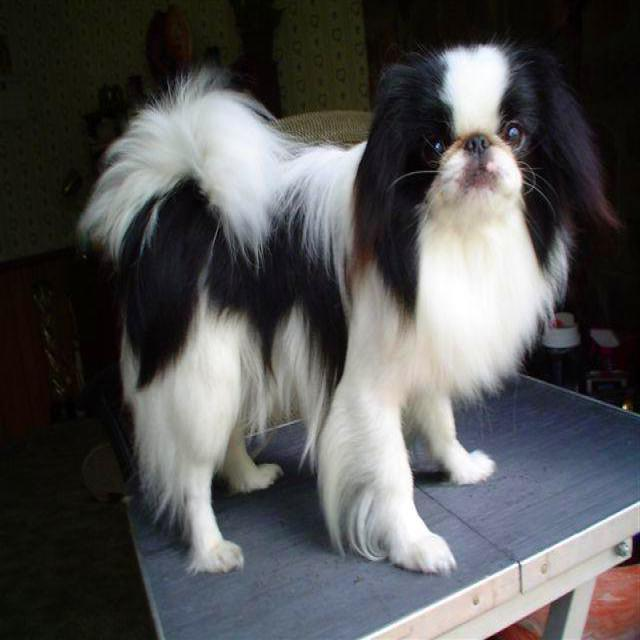husky: (81, 44, 572, 570)
